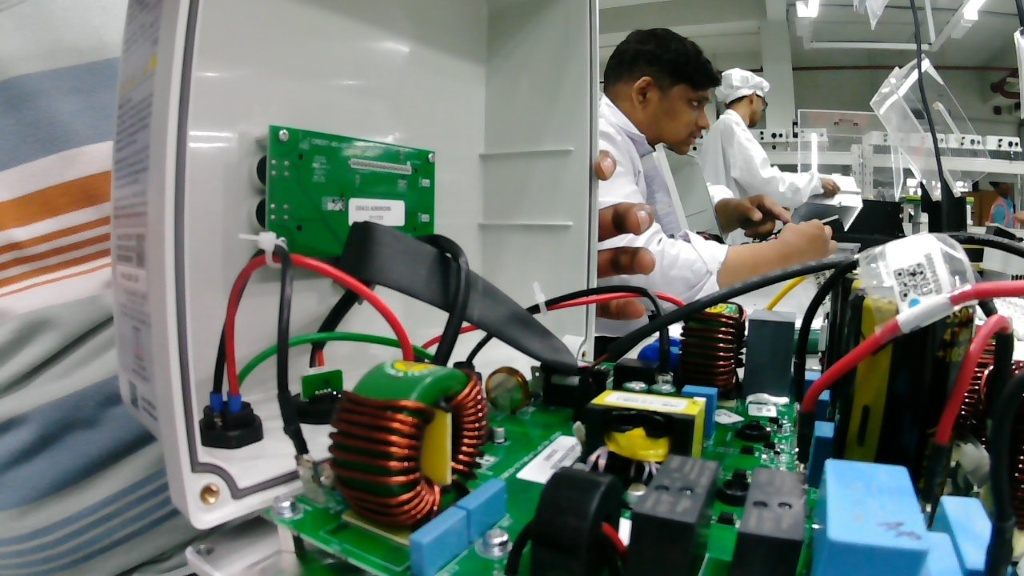wire_red: (185, 301, 266, 453)
